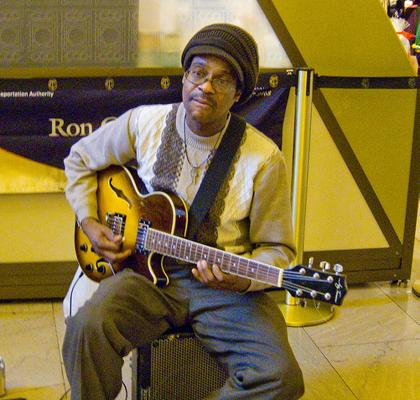person: (63, 22, 306, 398)
